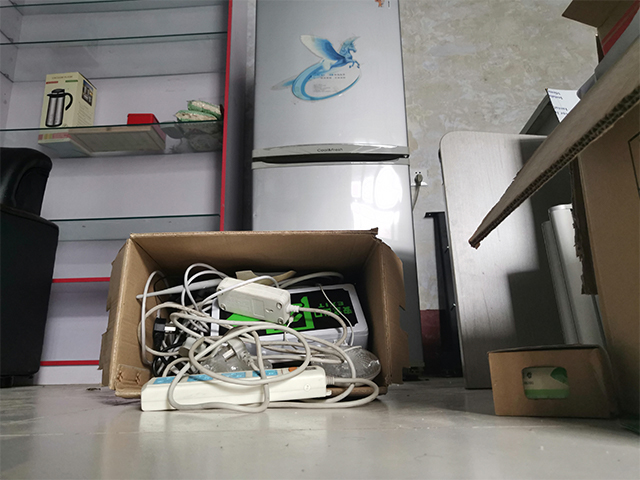wire: (133, 260, 382, 413)
